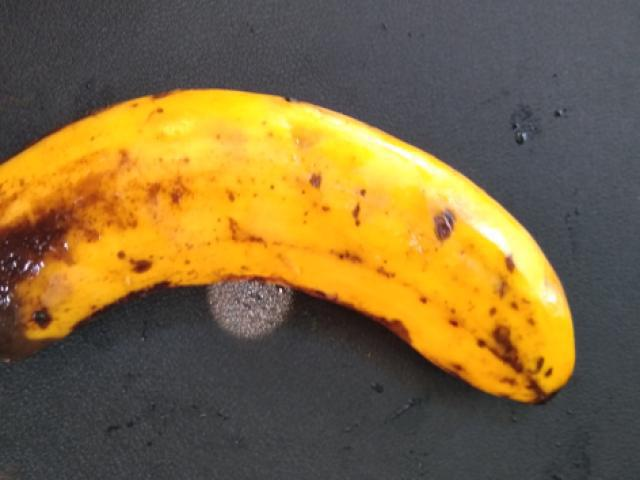overripe: (119, 66, 593, 441)
rotten: (0, 102, 157, 391)
